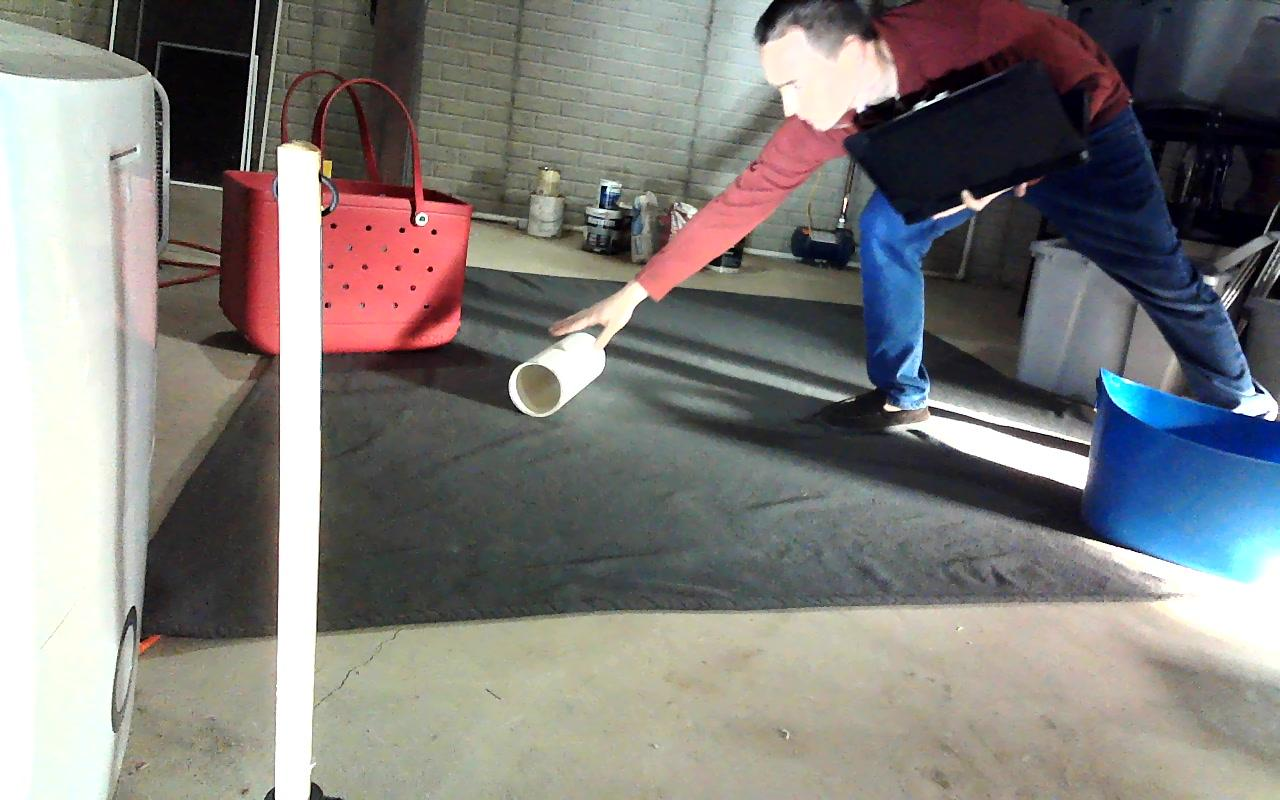coral: (509, 332, 606, 417)
